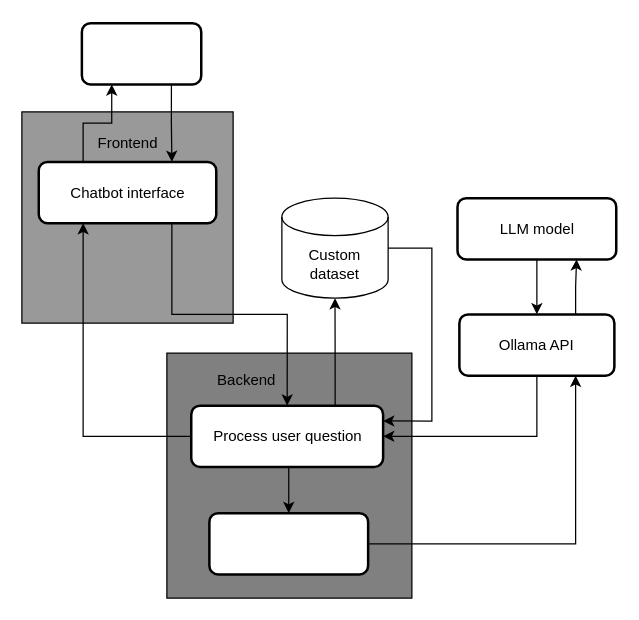
The diagram is 639 pixels wide and 620 high, and some of its shapes have lost their labels. Each missing label, with the centre of its shape:
"Prepare prompt" goes at (x=288, y=543).
"User" goes at (x=141, y=53).
